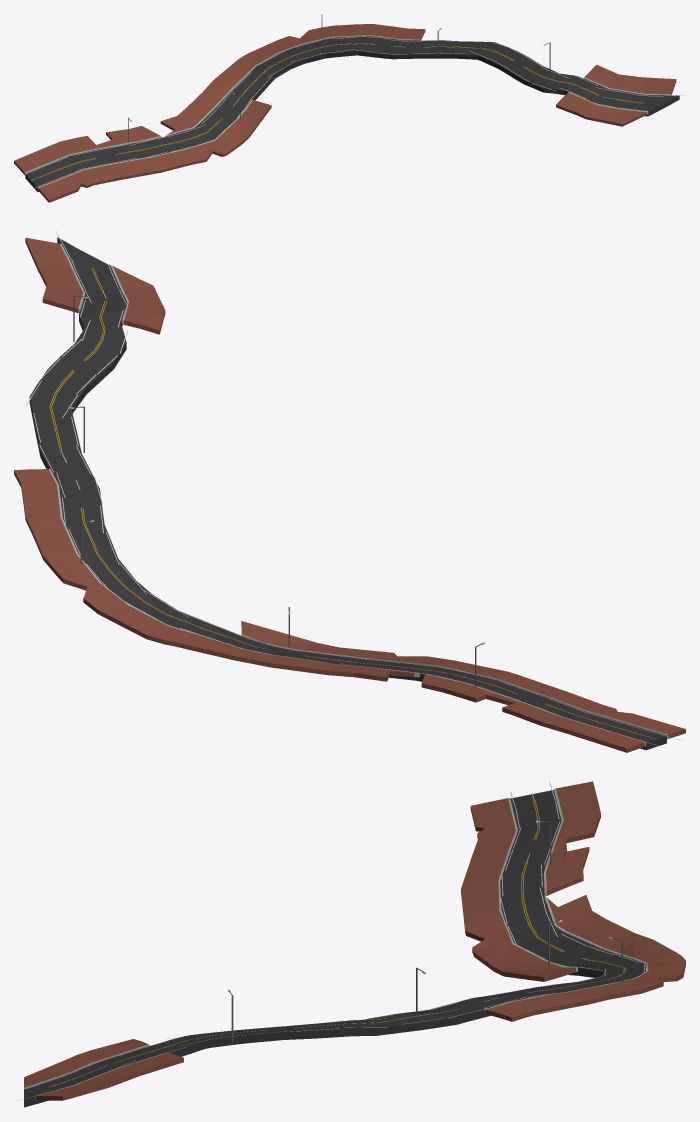
The picture shows the model from 3 angles, top to bottom: view 1: azimuth 30°, elevation 25°; view 2: azimuth 150°, elevation 25°; view 3: azimuth 270°, elevation 25°; orthographic projection. The views are drawn at different scales.
Size of the model in its own units: 149 by 28.68 by 95.43.
